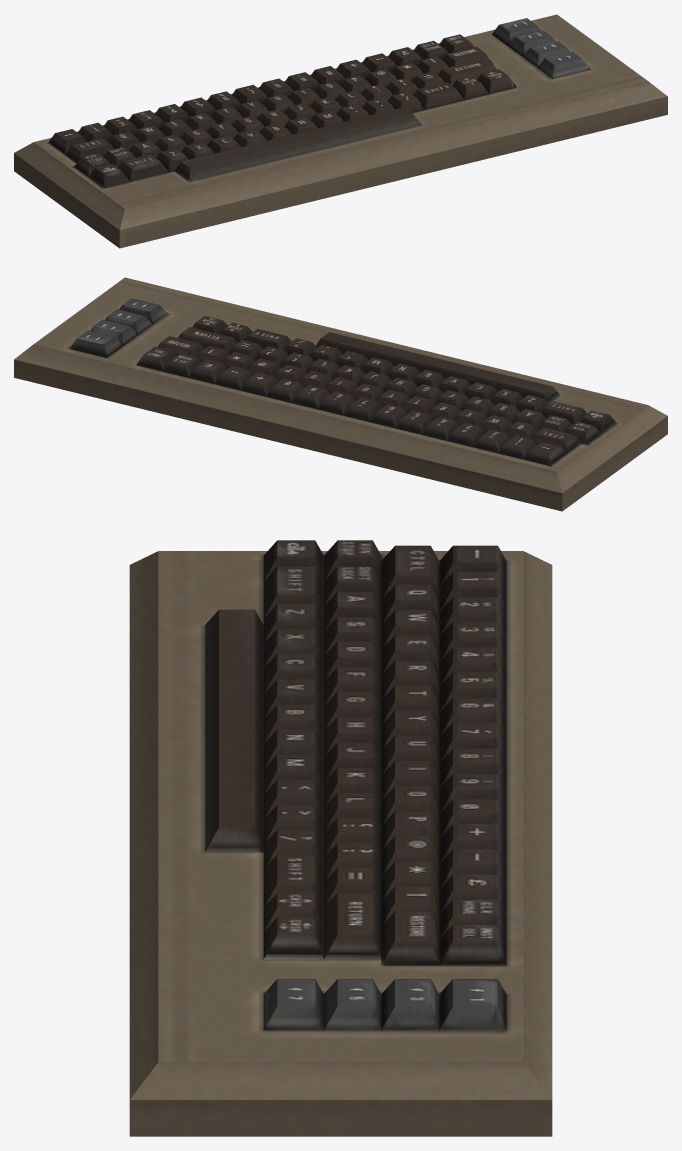
File: pc_keyboard_mp_3.dae
3 views of the same model, one above another, from view 1: azimuth 30°, elevation 25°; view 2: azimuth 150°, elevation 25°; view 3: azimuth 270°, elevation 25° (orthographic). The views are drawn at different scales.
Visible parts, largest first — view 1: pc_keyboard_mp_3; view 2: pc_keyboard_mp_3; view 3: pc_keyboard_mp_3.
Boxes of the visible parts, left/top/right/bottom form: pc_keyboard_mp_3: left=14, top=14, right=667, bottom=248; pc_keyboard_mp_3: left=14, top=277, right=667, bottom=511; pc_keyboard_mp_3: left=129, top=540, right=552, bottom=1136.
Bounding box in the file's own units: 0.55 × 0.1836 × 0.0396.
Materials: 1 (1 with a texture image).
